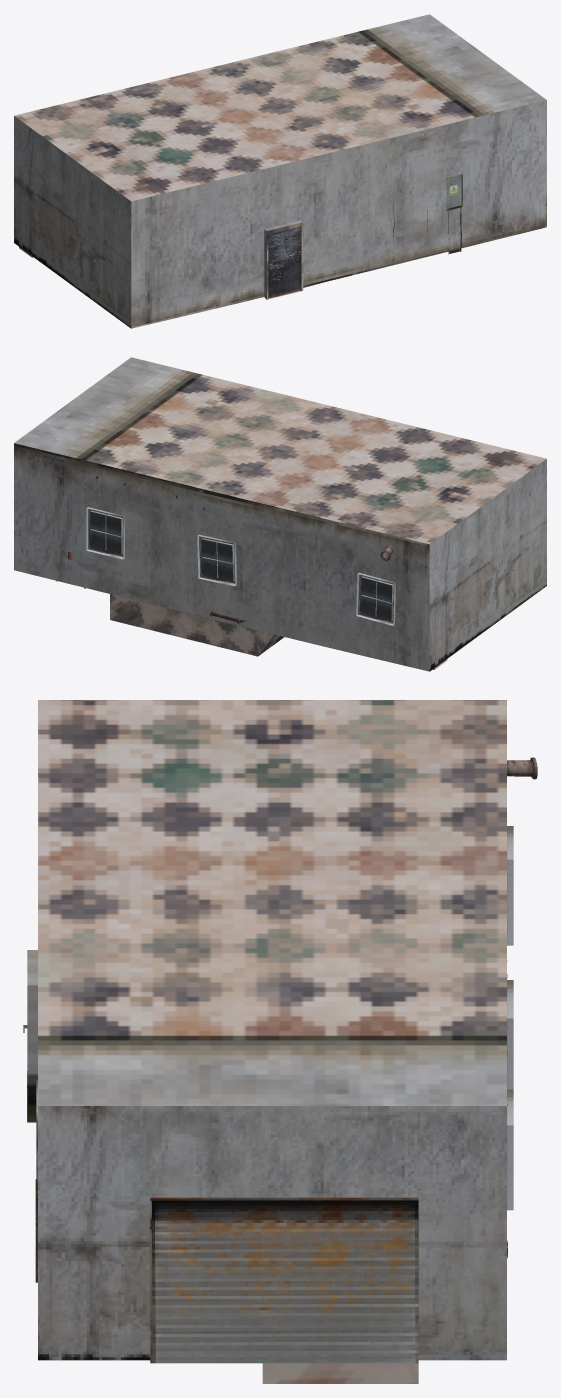
Rendered from garage_ps1.fbx.
3 views of the same model, one above another, from view 1: azimuth 30°, elevation 25°; view 2: azimuth 150°, elevation 25°; view 3: azimuth 270°, elevation 25° (orthographic). The views are drawn at different scales.
Visible parts, largest first — view 1: garaz, door_01; view 2: garaz, okno1.001, okno1.002, okno1; view 3: garaz, drzwi_garaz, okno1, okno1.002.
Boxes of the visible parts, box(x1,y1,x2,y2) form: garaz: box(14, 14, 546, 328); door_01: box(268, 226, 300, 298); garaz: box(14, 357, 546, 671); okno1.001: box(197, 534, 236, 586); okno1.002: box(356, 572, 395, 625); okno1: box(86, 507, 124, 559); garaz: box(27, 700, 506, 1383); drzwi_garaz: box(150, 1197, 418, 1363); okno1: box(507, 1089, 513, 1210); okno1.002: box(507, 826, 513, 945).
Bounding box in the file's own units: 1107 × 441 × 586.
